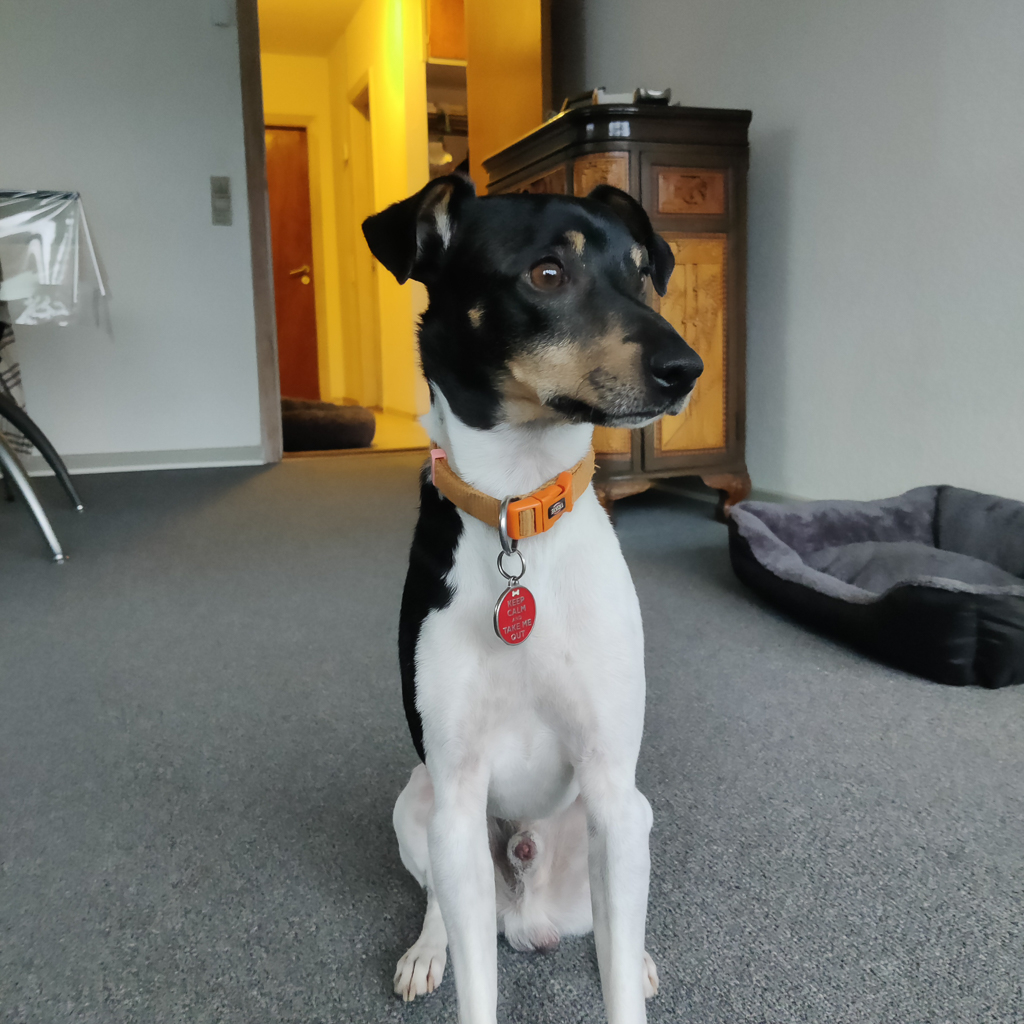Dog: (326, 144, 743, 1024)
